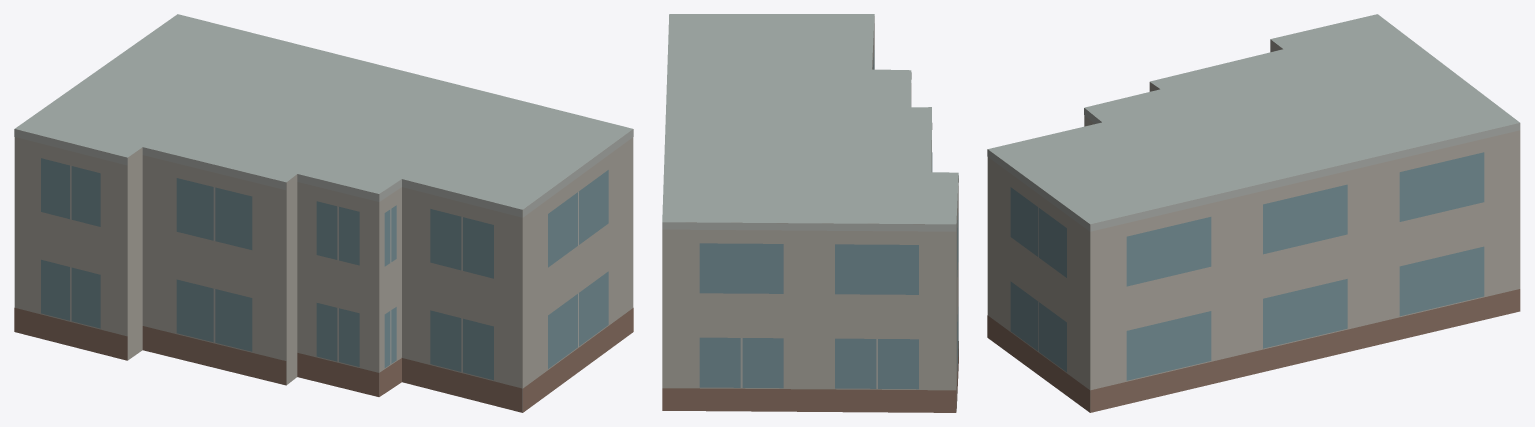
The model's file is survey-upis-32493913.glb.
3 views of the same model, side by side, from view 1: azimuth 30°, elevation 25°; view 2: azimuth 150°, elevation 25°; view 3: azimuth 270°, elevation 25° (orthographic). The views are drawn at different scales.
Parts seen in each view (by area): view 1: survey-upis-32493913.tmp; view 2: survey-upis-32493913.tmp; view 3: survey-upis-32493913.tmp.
Part boxes in pixels (x1,y1,x2,y2): survey-upis-32493913.tmp: (14,14,633,412); survey-upis-32493913.tmp: (662,14,958,412); survey-upis-32493913.tmp: (987,14,1520,412).
Bounding box in the file's own units: 14.84 × 6.2 × 15.89.
